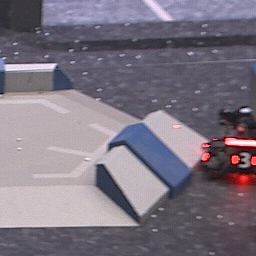Red: (229, 153, 256, 168)
Robot: (198, 105, 256, 181)
